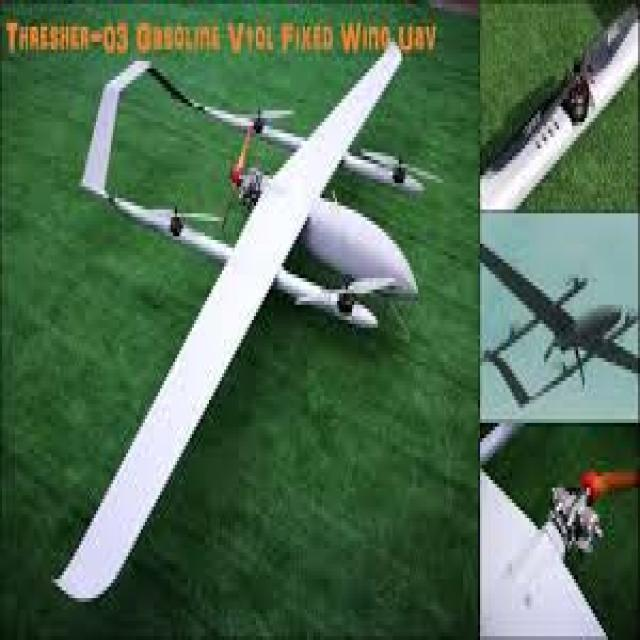UAV: (63, 48, 405, 560), (477, 254, 632, 416)
